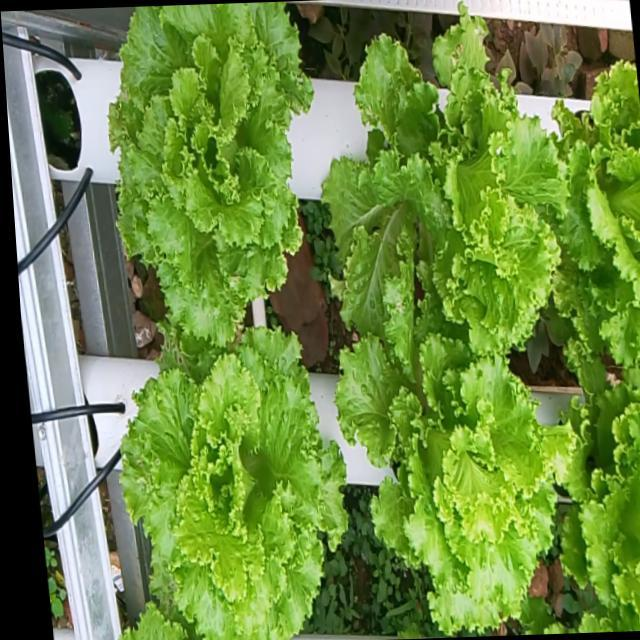Mature: (335, 0, 597, 353), (349, 329, 609, 630), (111, 1, 325, 365), (125, 326, 363, 640)
